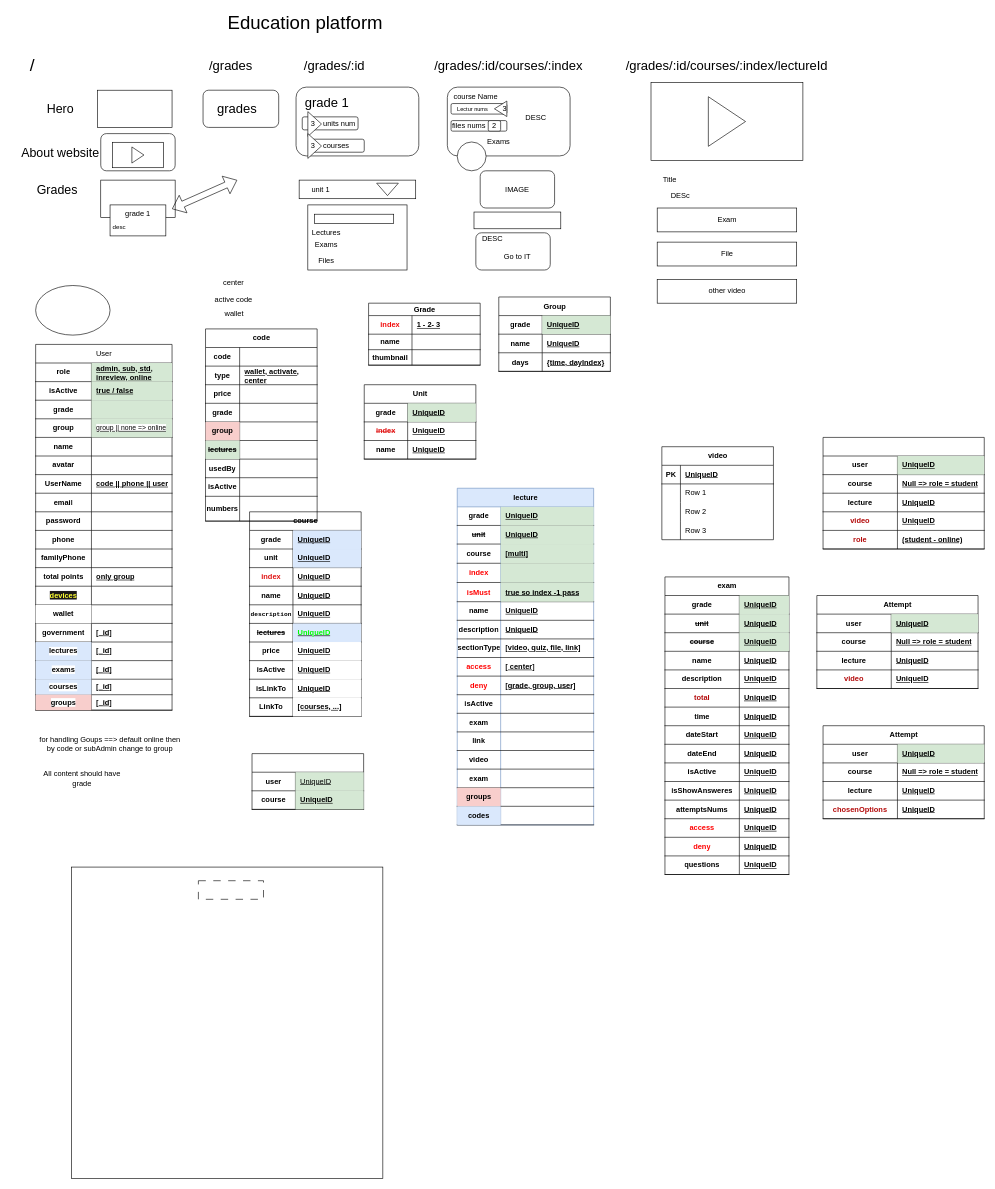
This 995x1189 diagram has some shape labels left out. Here are the shapes that lost their labels. From the top down, the box of each, then its label:
(97, 90, 172, 127): ANimations
(314, 214, 394, 224): course1
(473, 211, 561, 229): lecture 1
(35, 285, 110, 335): Edu Schema
(822, 437, 984, 549): VIew
(251, 753, 364, 809): userCourses
(198, 880, 264, 899): بنك الأسئلة
